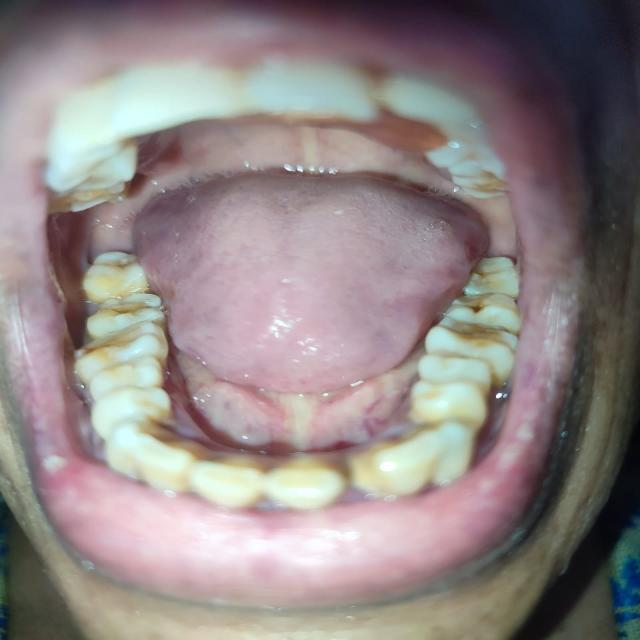No Cancer: (53, 104, 483, 410)
